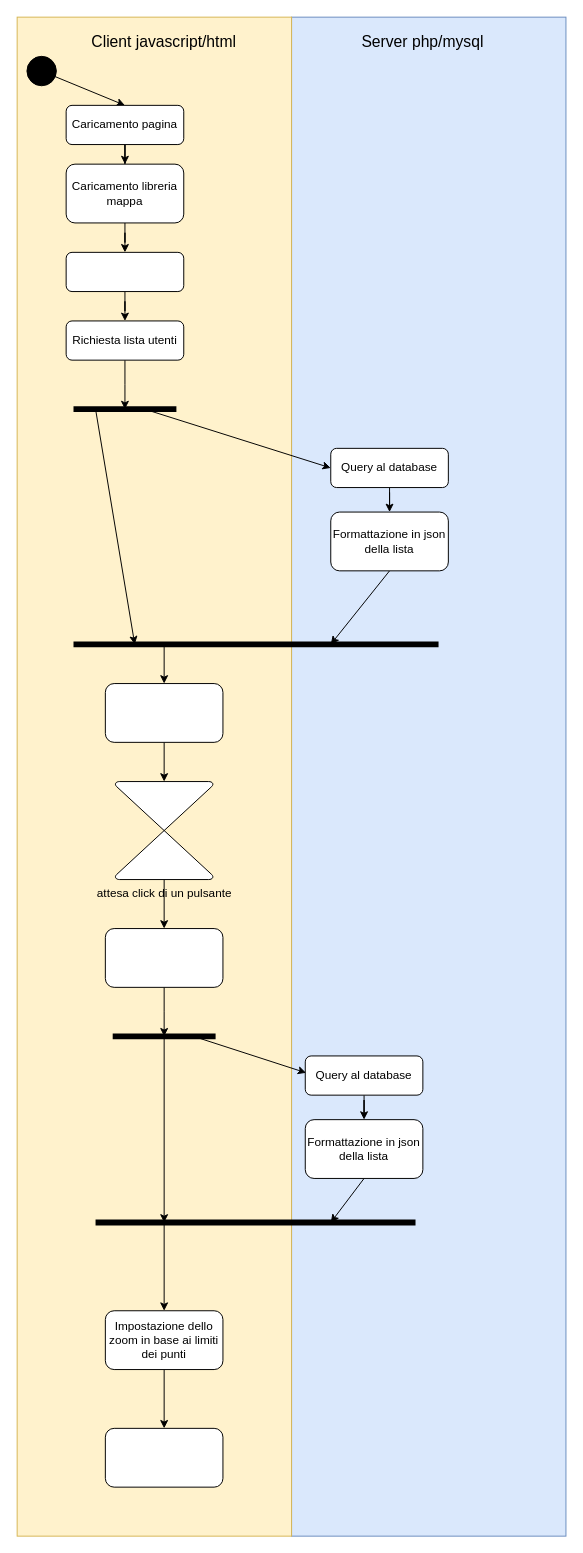
Image size: 583x1553. Some labels were removed from this diagram. Here are the shapes that lost their labels. From the top down, the centre of each, then its label:
point 124,271: Creazione mappa
point 163,712: Creazione dei pulsanti della lista
point 163,957: Richiesta lista degli spostamenti
point 163,1457: Creazione linee raffiguranti lo spostamento
